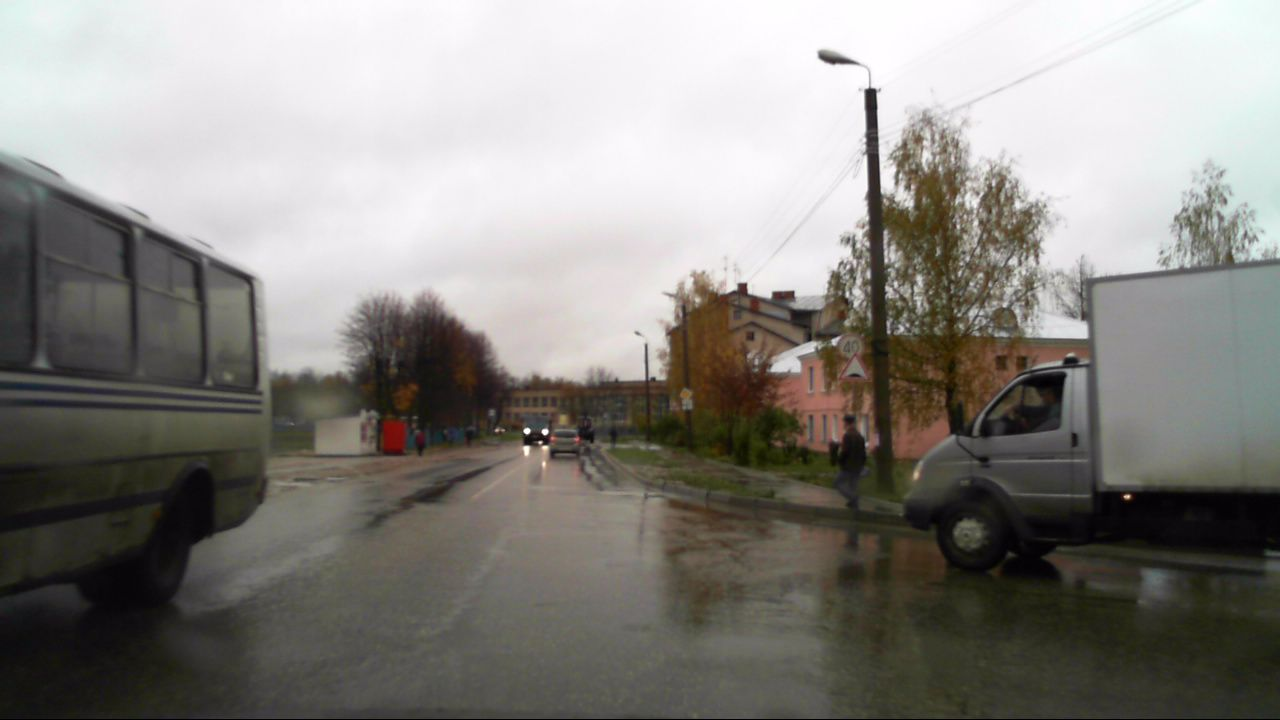speed_warning_40: (838, 333, 864, 361)
